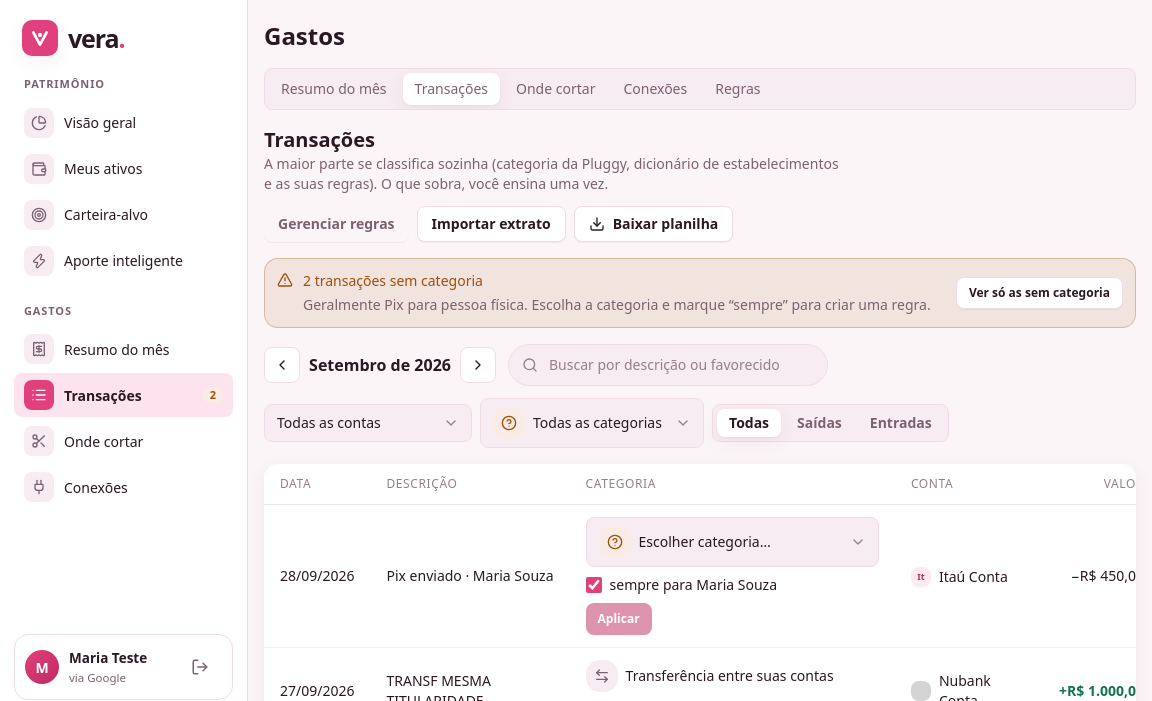
Scenario: correção na própria linha › o 422 de regra inválida troca o escopo para a descrição e deixa reenviar
Click the button "Escolher categoria…".
click(732, 542)  # box [586, 517, 879, 567]
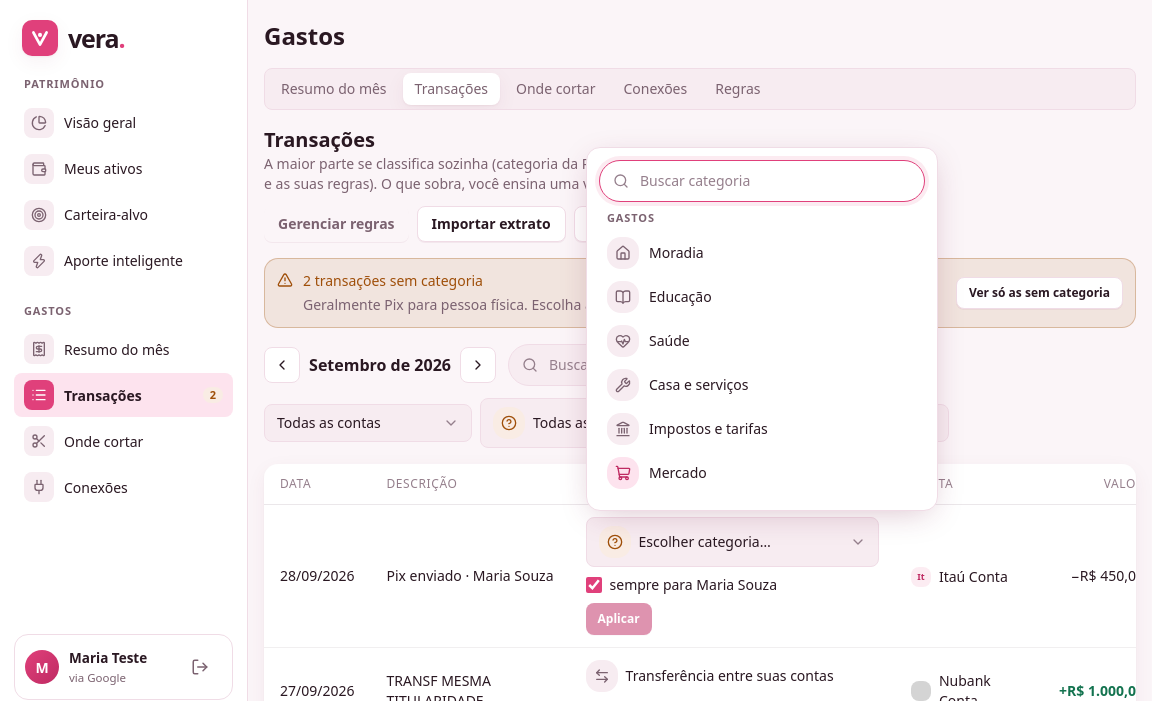
Click the option "Casa e serviços".
click(623, 384)  # box [599, 362, 925, 406]
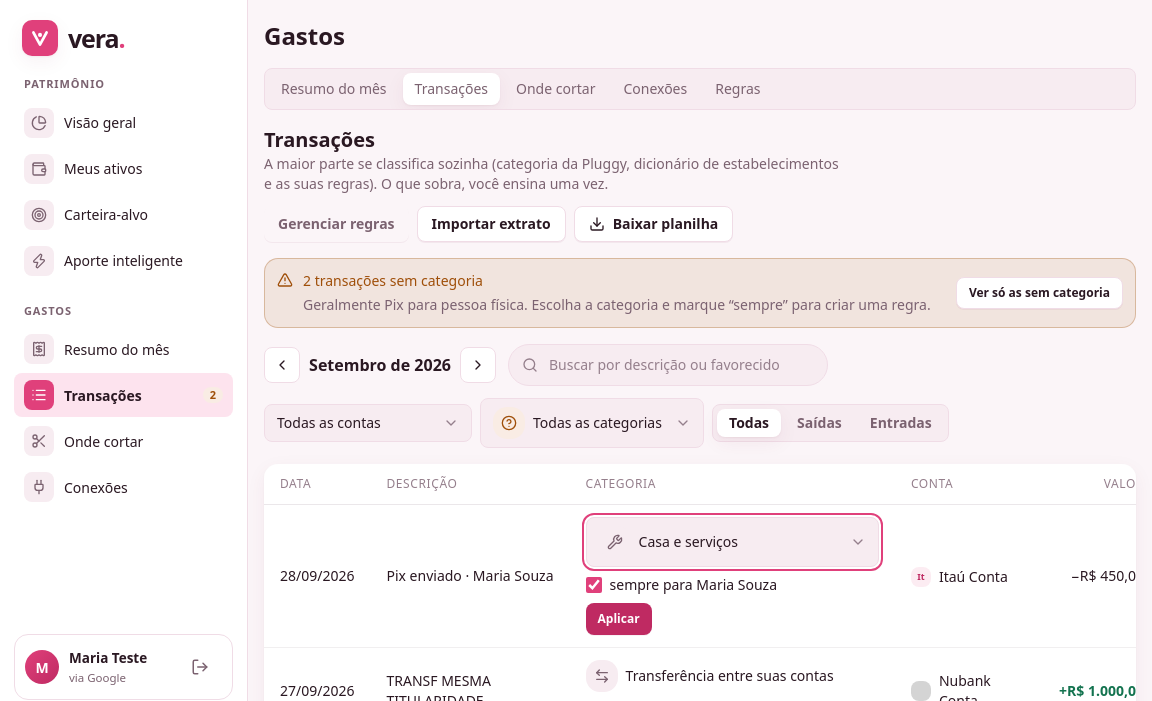
Click the button "Aplicar".
click(619, 619)  # box [586, 603, 652, 635]
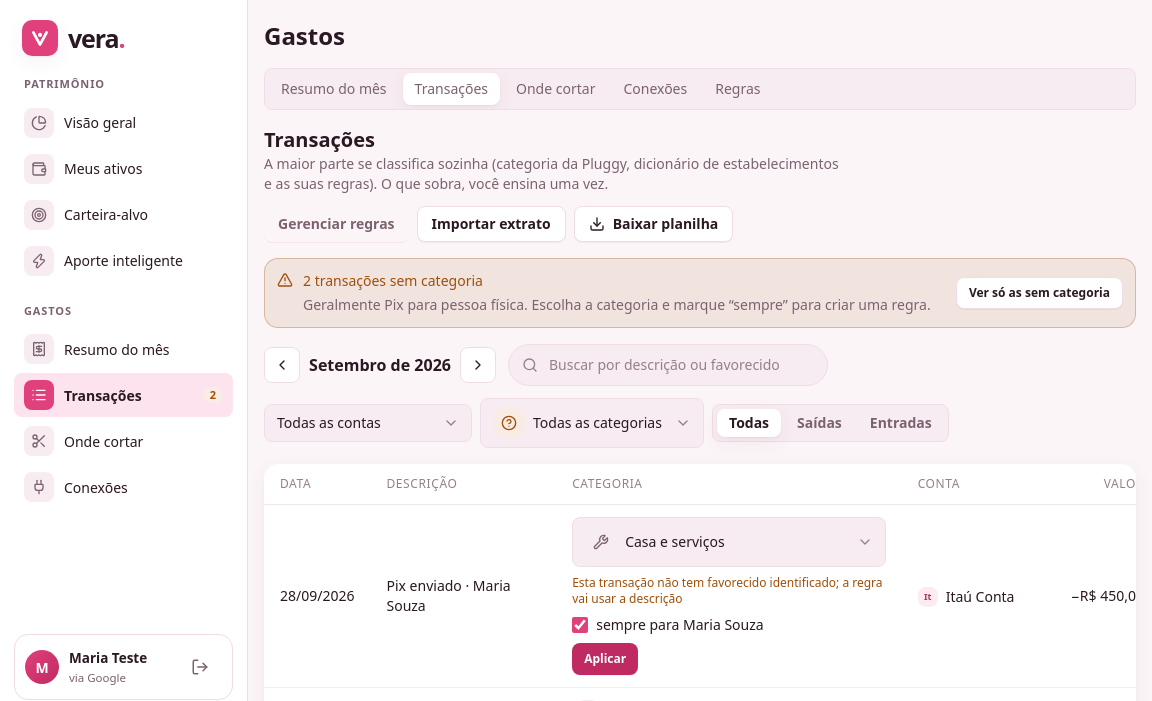
Result: the message "Esta transação não tem favorecido identificado; a regra vai usar a descrição" is shown at [572, 575, 886, 607]
Click the button "Aplicar".
click(605, 659)  # box [572, 643, 638, 675]
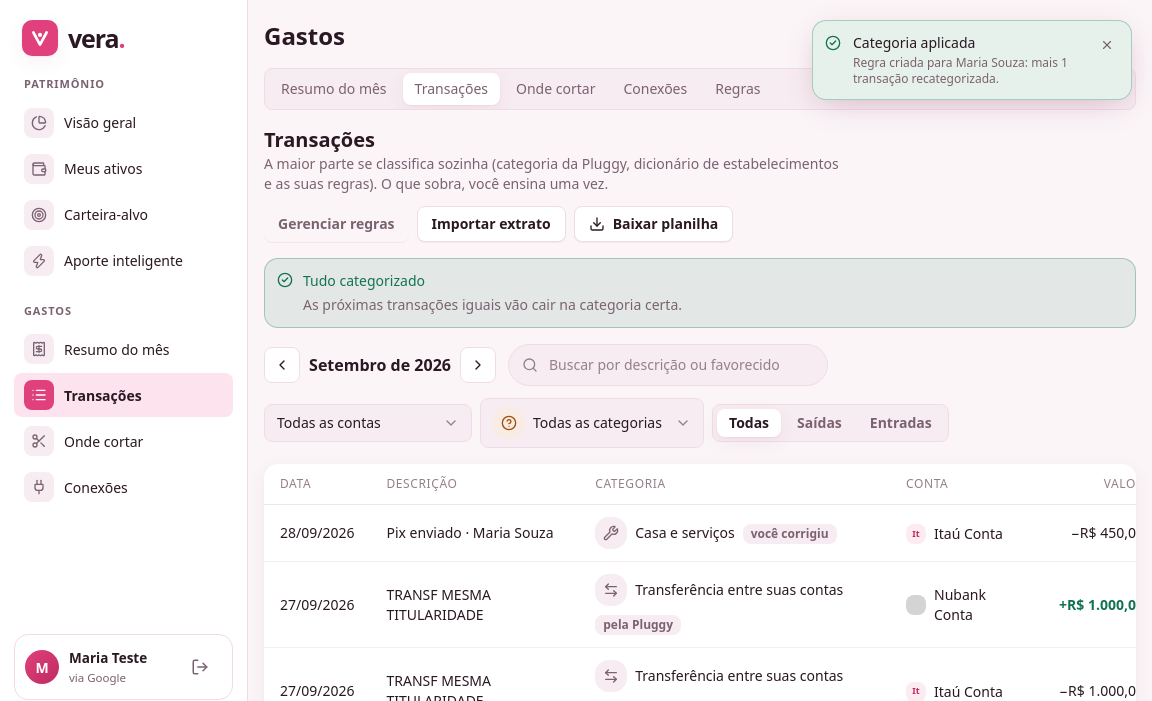
Result: the text "Regra criada para Maria Souza" is shown at [853, 54, 1068, 87]
